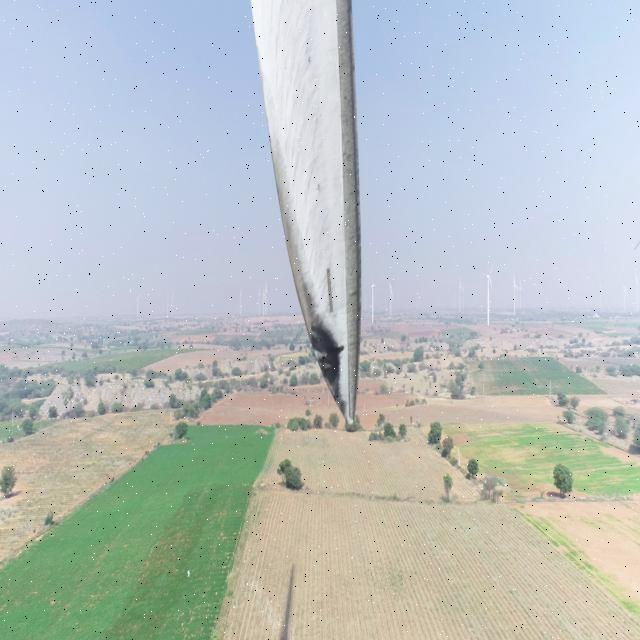Dirt: (258, 18, 362, 423)
Oil LEAKAGE: (303, 322, 349, 416)
